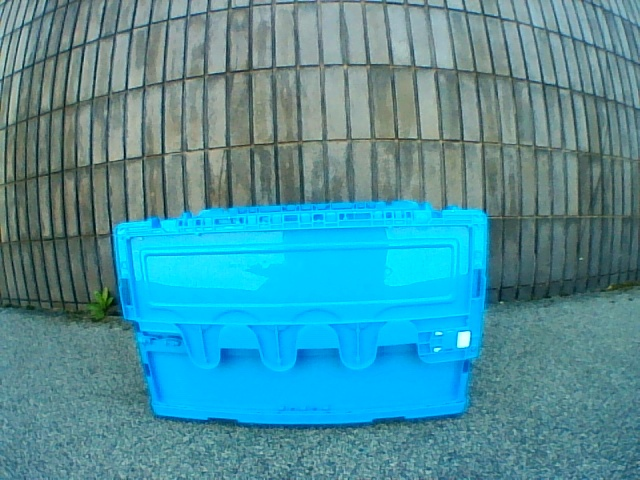blue_box: (113, 200, 486, 426)
